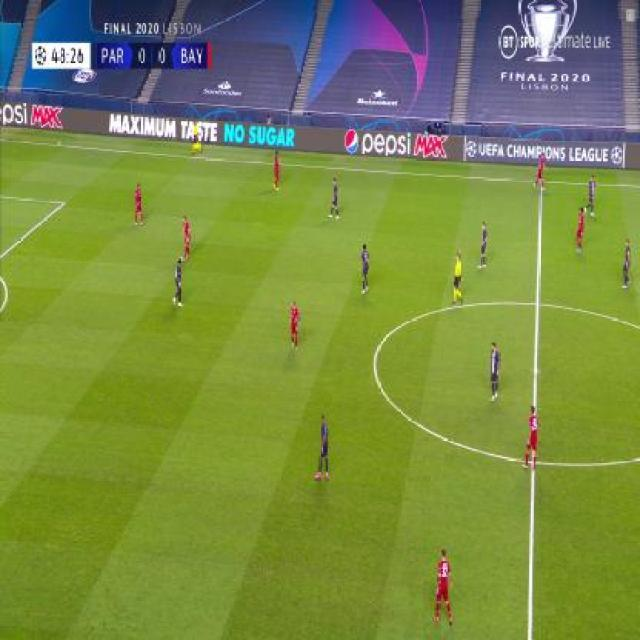player: (432, 548, 455, 625), (523, 404, 540, 472), (315, 414, 331, 482), (488, 341, 501, 403), (450, 252, 464, 306), (358, 242, 371, 295), (288, 300, 301, 351), (172, 256, 185, 307), (575, 205, 588, 254), (477, 222, 490, 270), (584, 175, 598, 218), (532, 154, 548, 191), (621, 238, 632, 289), (132, 184, 145, 227), (328, 178, 341, 220), (181, 216, 192, 262), (271, 150, 282, 190), (191, 119, 202, 155)
